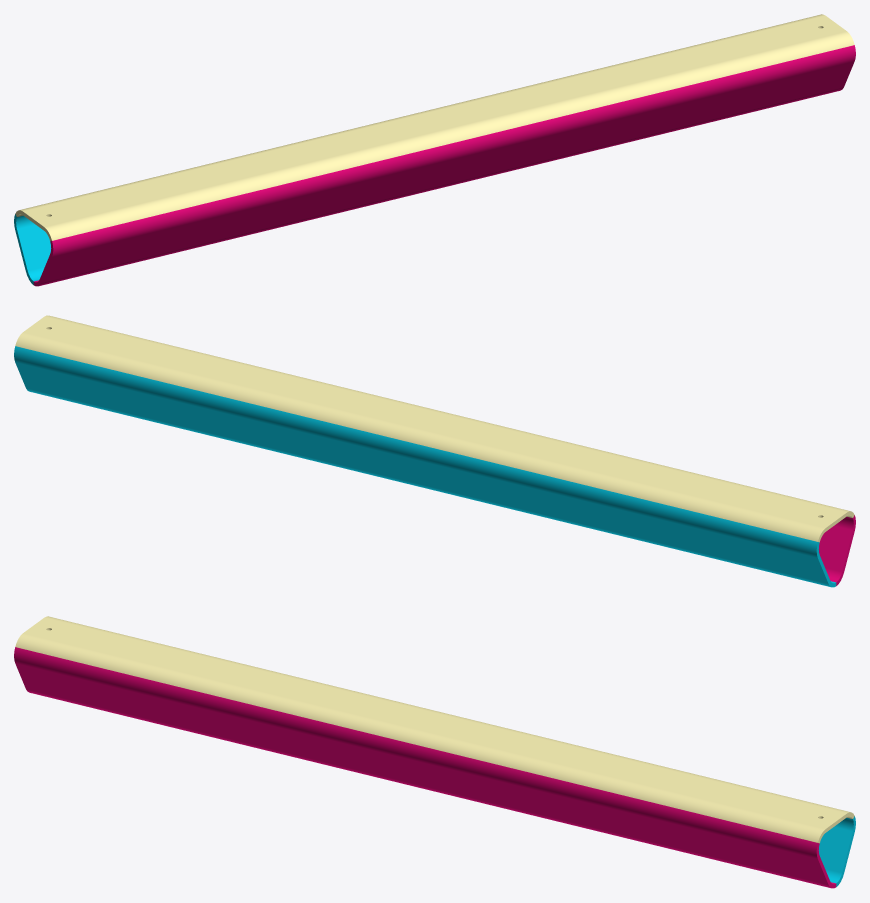
File: V5RC-Override-H2H-_-Toggle.glb
The picture shows the model from 3 angles, top to bottom: view 1: azimuth 30°, elevation 25°; view 2: azimuth 150°, elevation 25°; view 3: azimuth 330°, elevation 25°; orthographic projection.
Visible parts, largest first — view 1: V5RC-Override-H2H-_-Toggle; view 2: V5RC-Override-H2H-_-Toggle; view 3: V5RC-Override-H2H-_-Toggle.
Part boxes in pixels (<box>): V5RC-Override-H2H-_-Toggle: <box>14,14,855,286</box>; V5RC-Override-H2H-_-Toggle: <box>14,315,855,587</box>; V5RC-Override-H2H-_-Toggle: <box>14,616,855,888</box>.
Bounding box in the file's own units: 0.6562 × 0.0516 × 0.0557.
